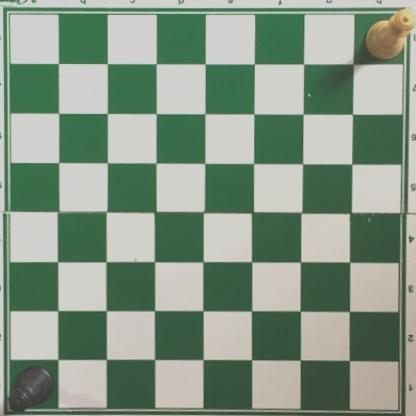black-queen: (6, 364, 56, 416)
white-queen: (364, 7, 416, 61)
